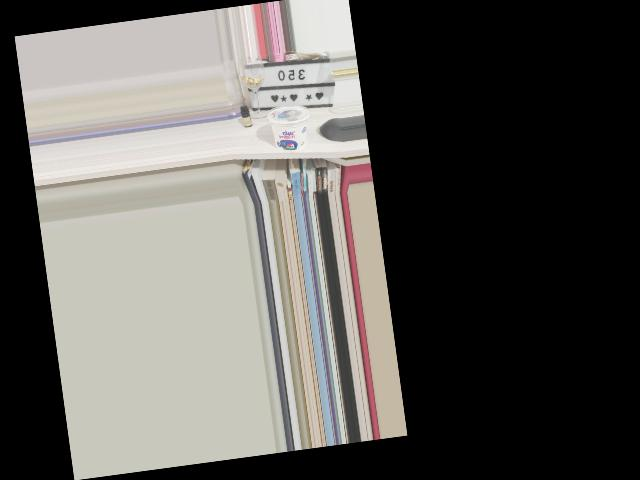cotage: (268, 101, 311, 155)
